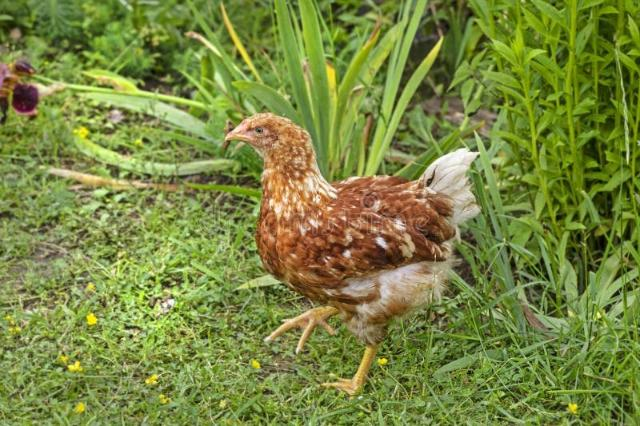Chicken: (224, 111, 479, 396)
